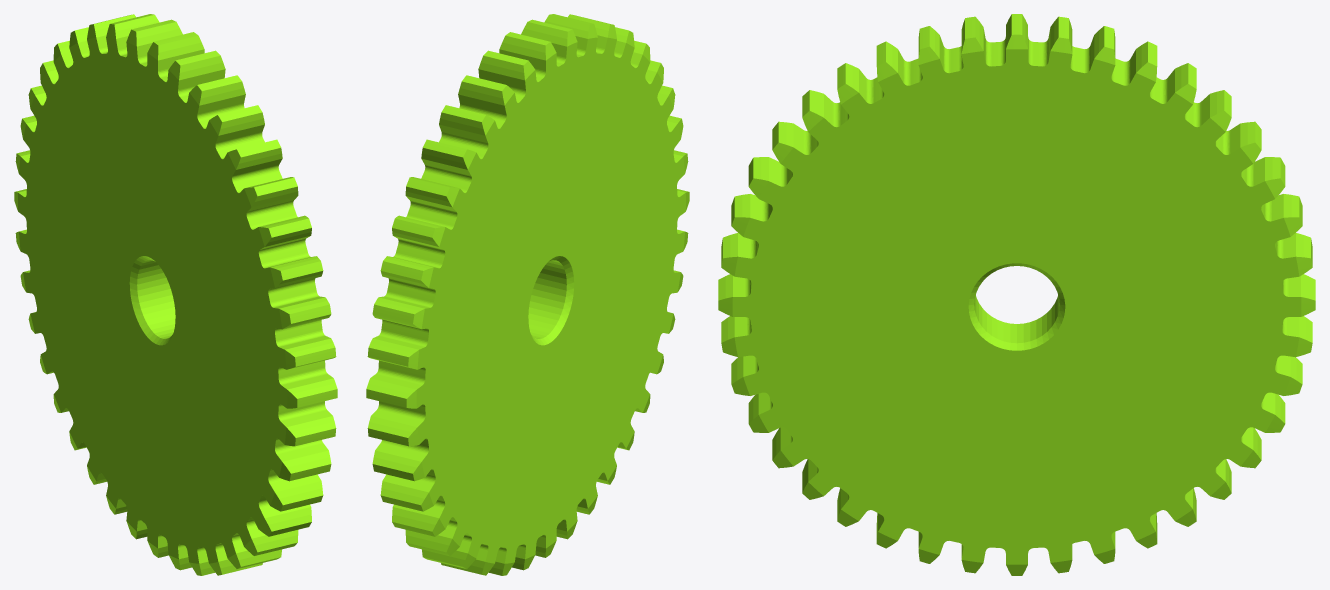
3 views of the same model, side by side, from view 1: azimuth 30°, elevation 25°; view 2: azimuth 150°, elevation 25°; view 3: azimuth 270°, elevation 25° (orthographic). The views are drawn at different scales.
Size of the model in its own units: 2 by 21 by 21.
